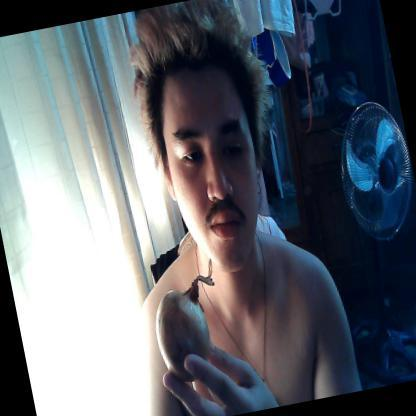onion: (144, 270, 222, 392)
